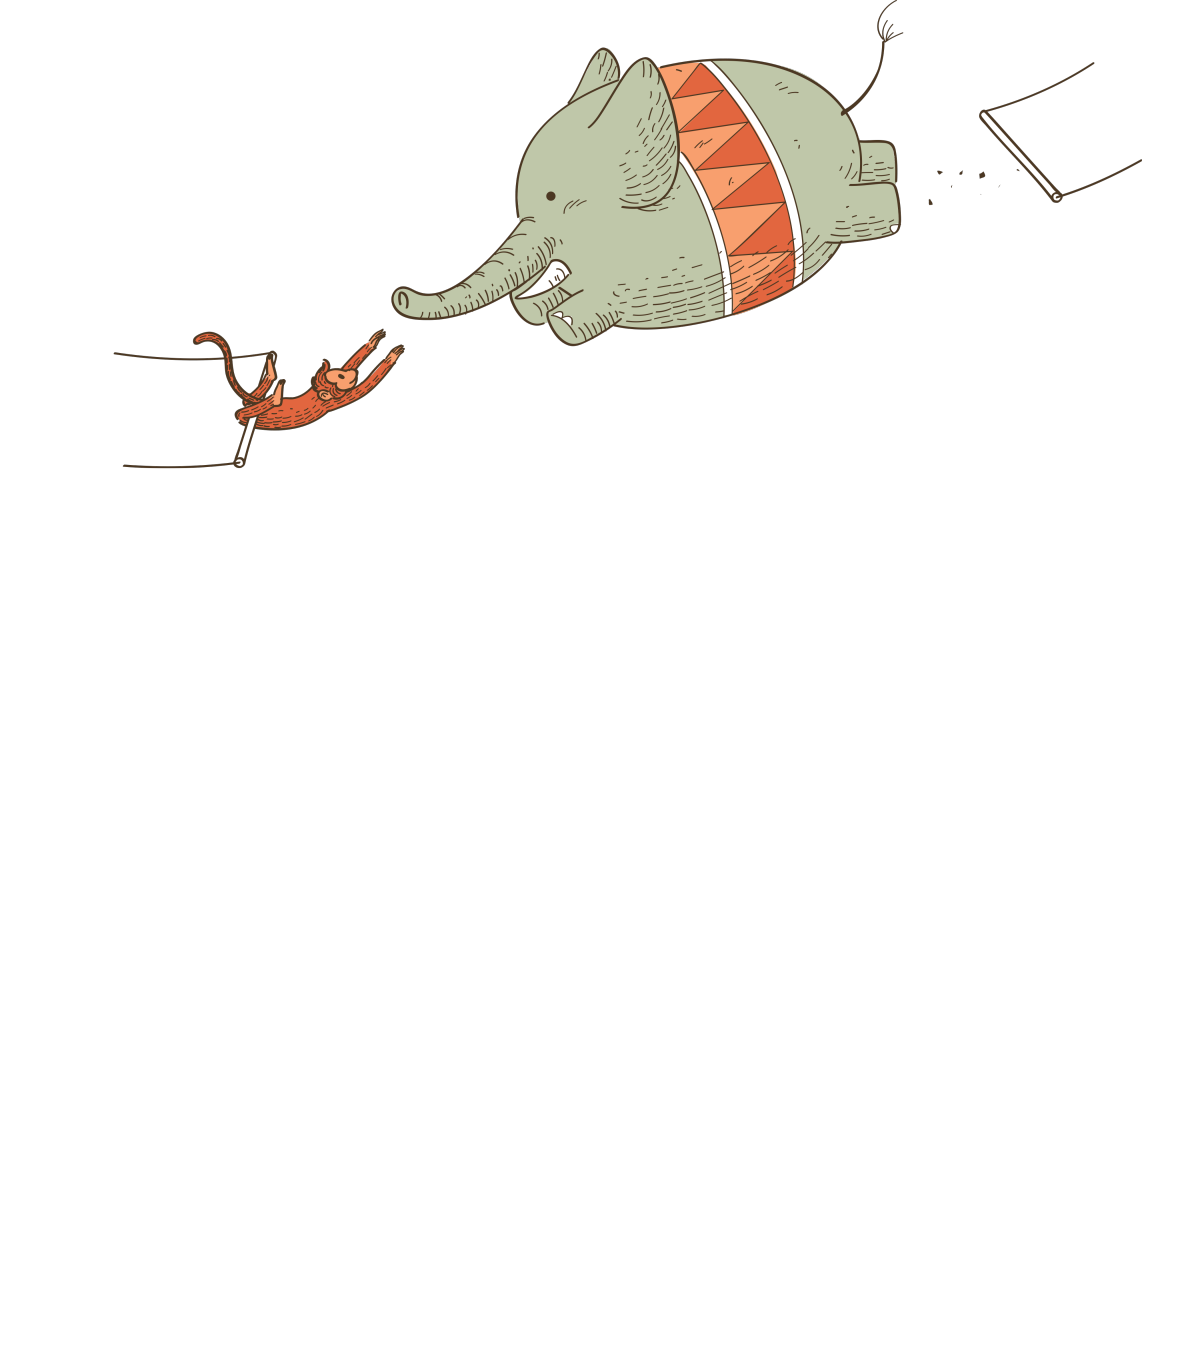design: (57, 10, 1200, 492)
